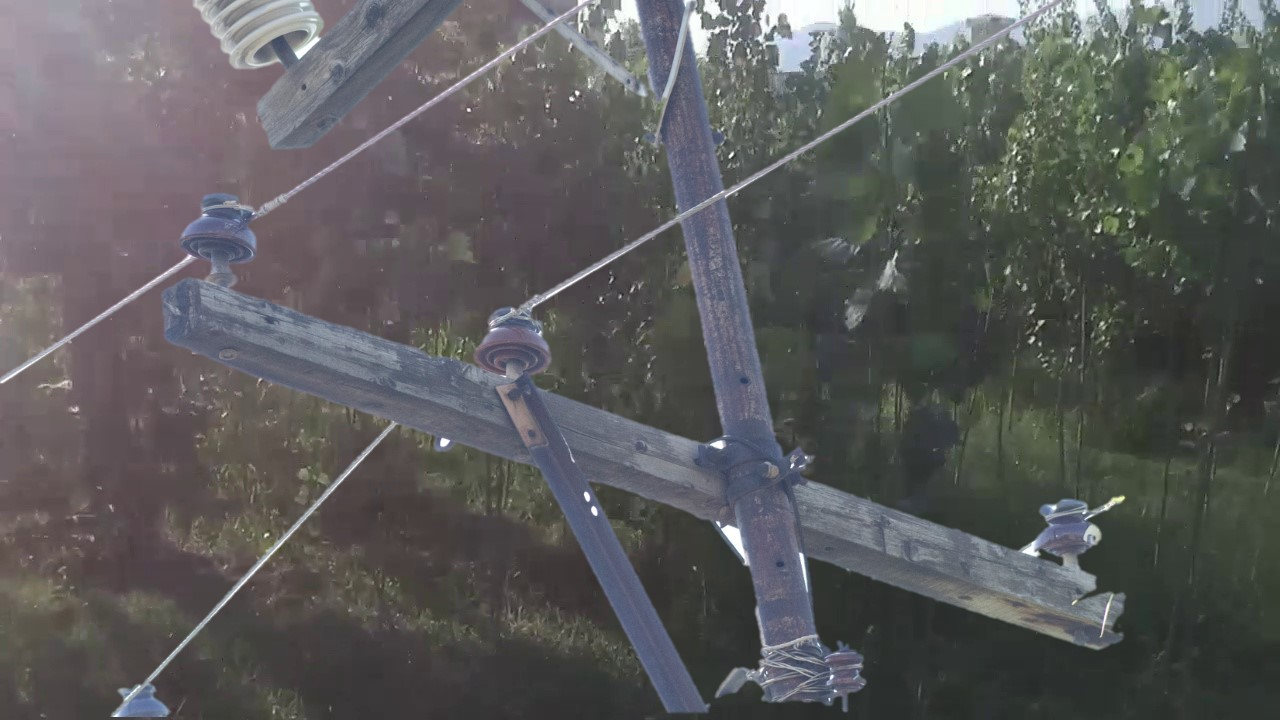defect_pin: (1033, 493, 1108, 562)
insulator_pin: (472, 299, 556, 390), (181, 188, 262, 272)
